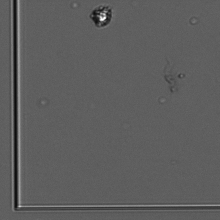Living Cell: (89, 5, 113, 28)
